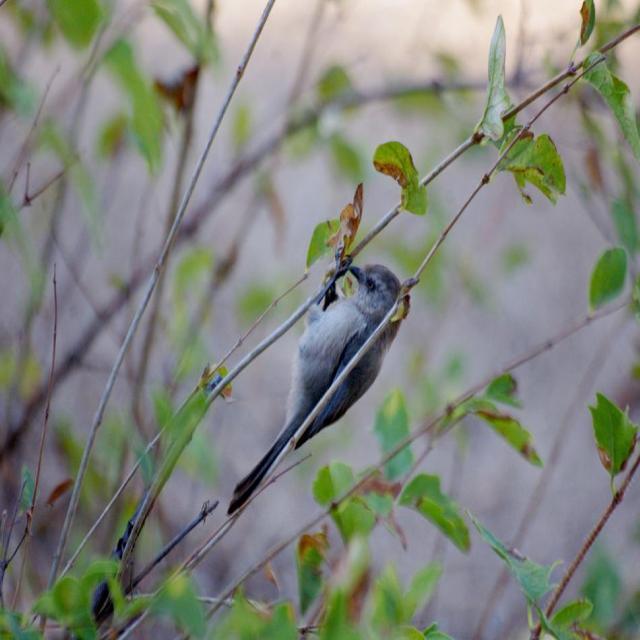bird: (228, 244, 417, 541)
